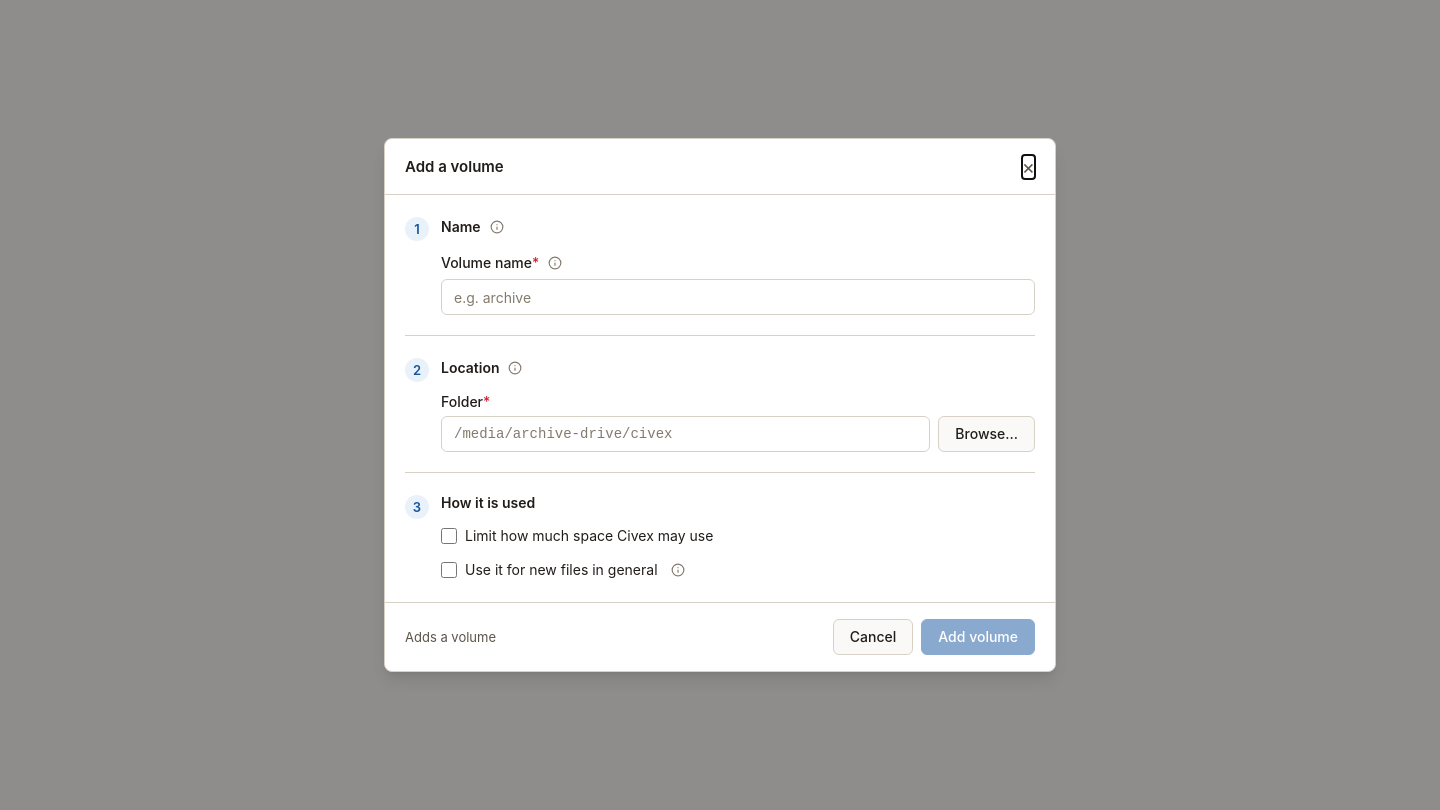
AddVolumeModal › shows the server error and stays open
Type "archive" into the field labelled "Volume name*" at (738, 297), box [441, 279, 1035, 315]
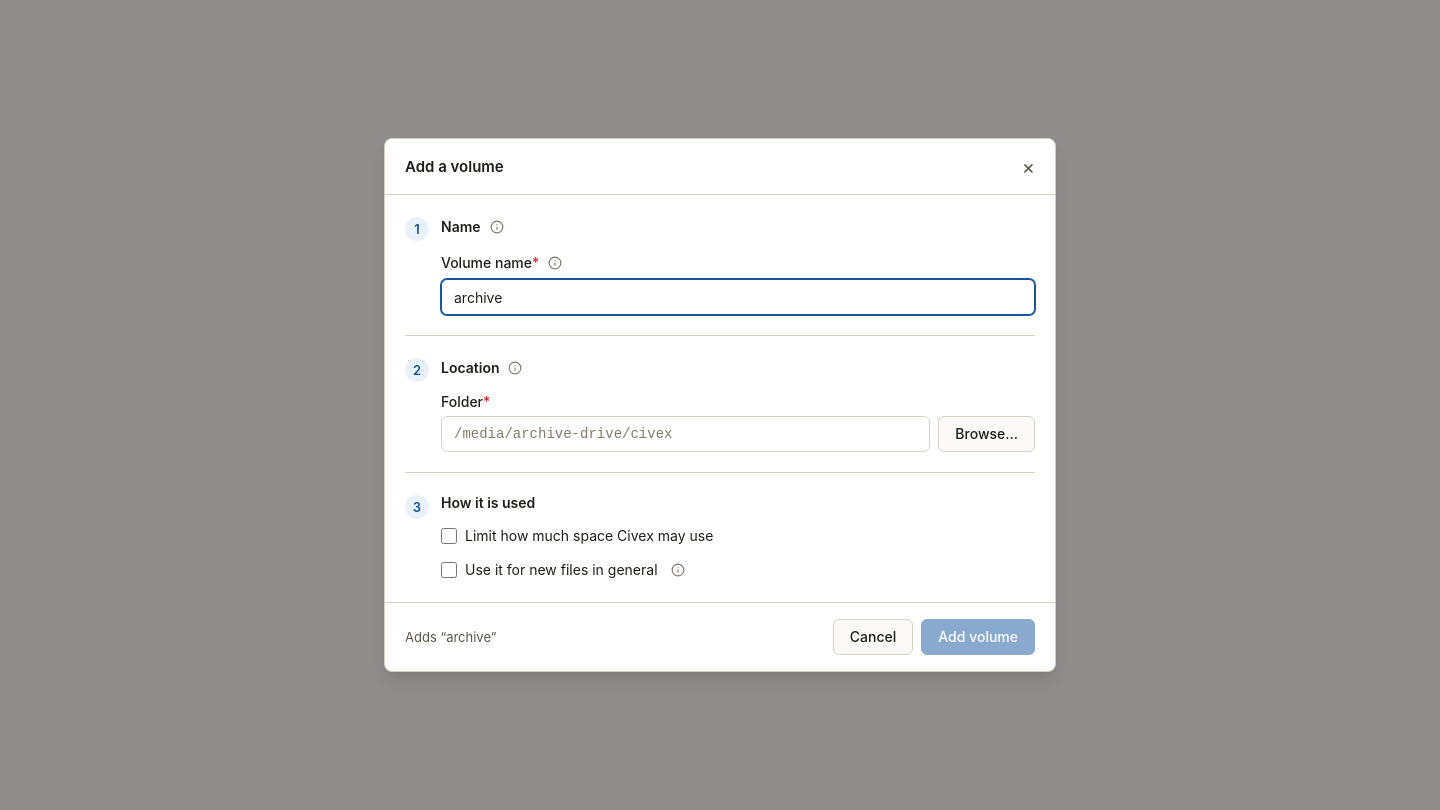
Type "/media/usb/civex" into the field labelled "Folder*" at (686, 434), box [441, 416, 930, 452]
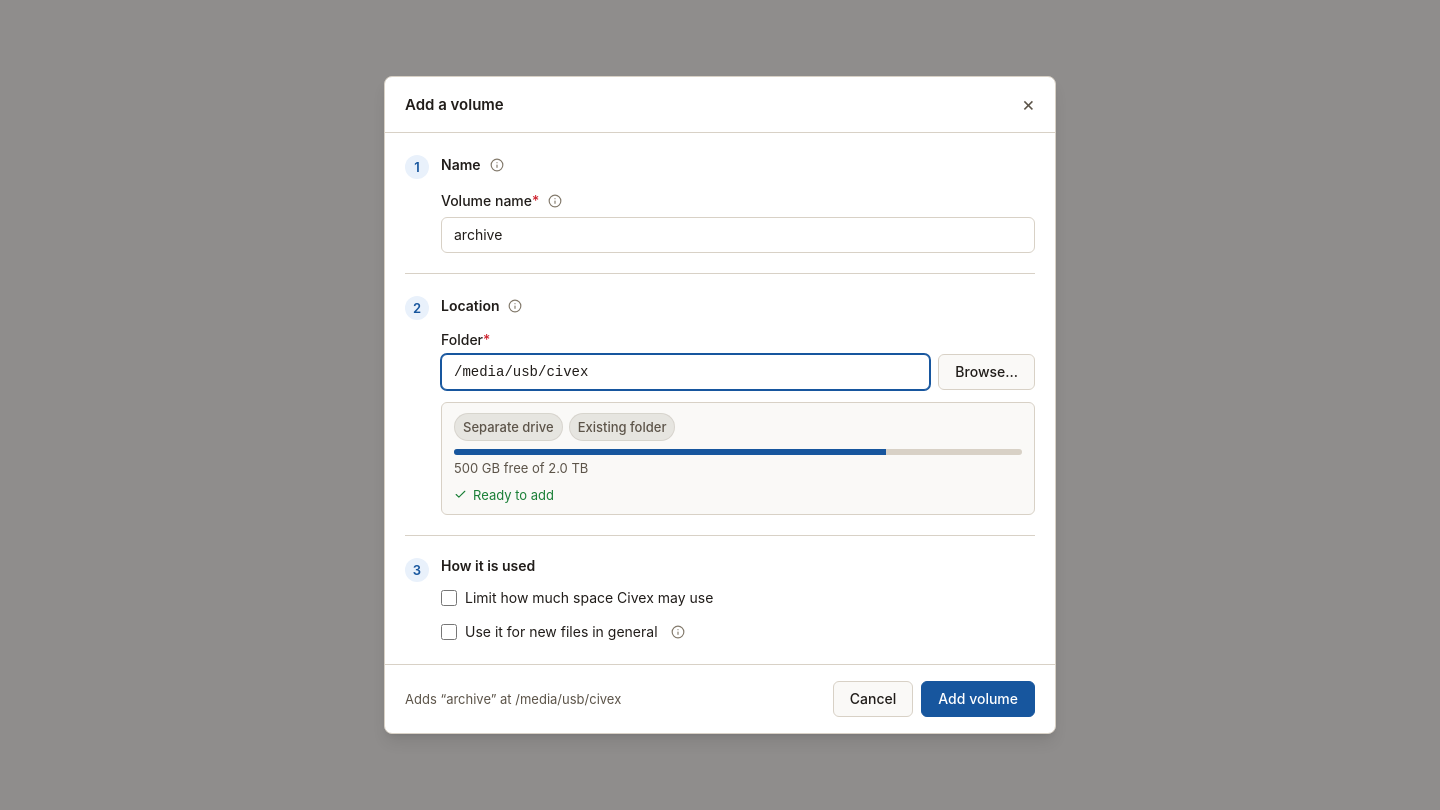
Expected: the button "Add volume" is enabled
Click the button "Add volume" at (978, 699), box [921, 681, 1035, 717]
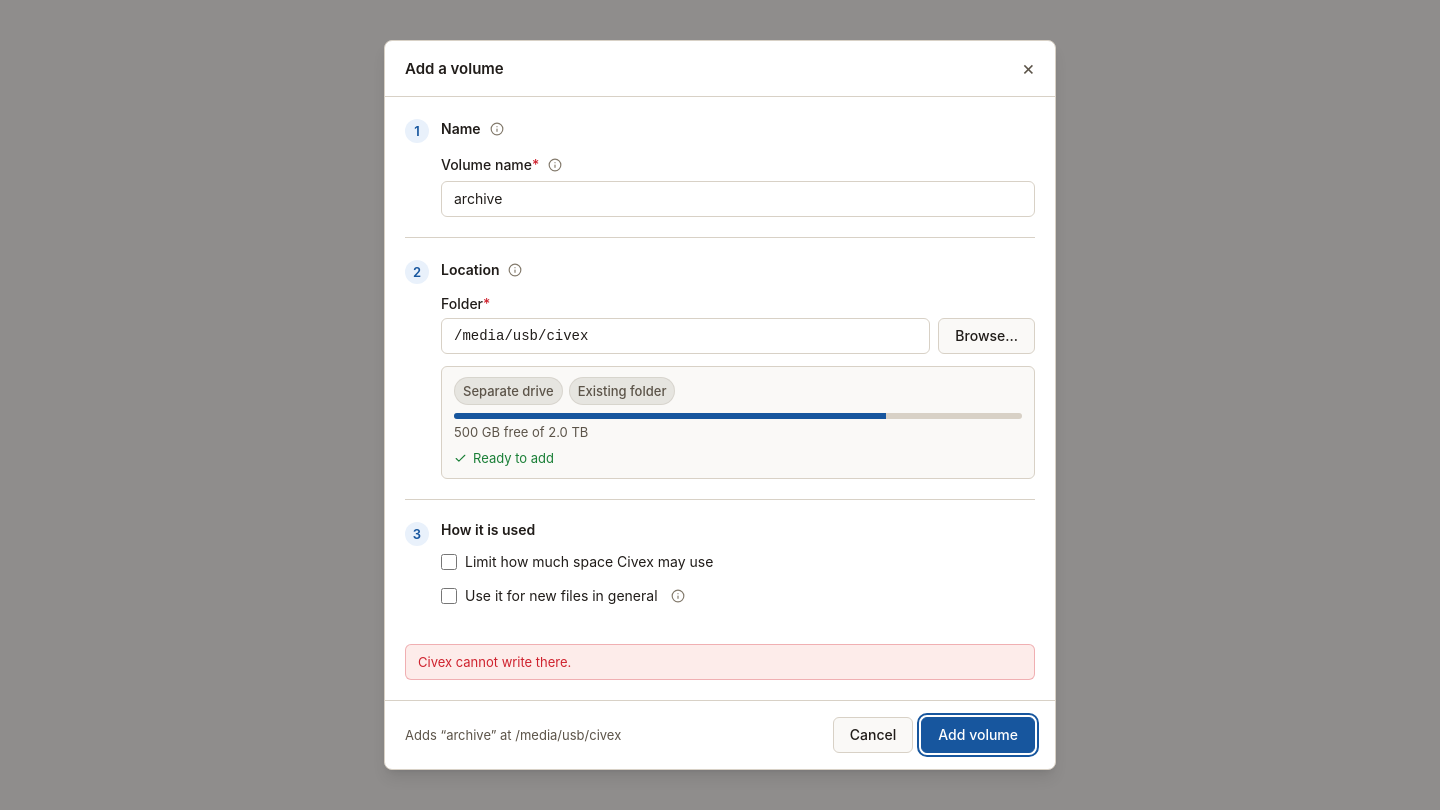
Expected: the text "Civex cannot write there." is shown, [405, 644, 1035, 680]
